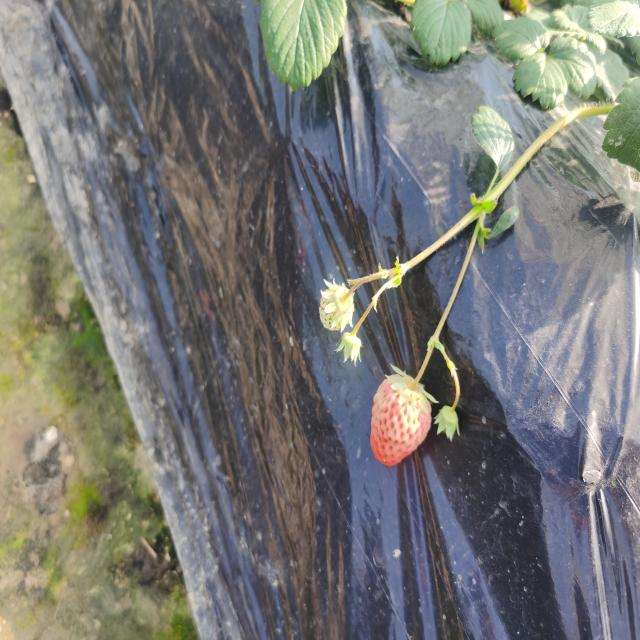stem: (408, 352, 431, 393)
strawberry: (370, 375, 431, 466)
